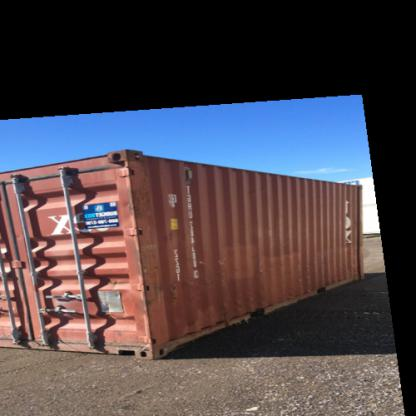Damage: (125, 183, 155, 220), (136, 279, 170, 310), (132, 240, 158, 271), (120, 159, 150, 181), (244, 300, 267, 319), (169, 278, 182, 302), (215, 254, 232, 270)
